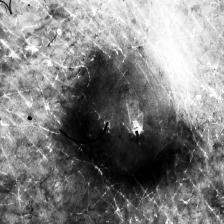Benign Marking or Mole: (67, 42, 189, 184)
